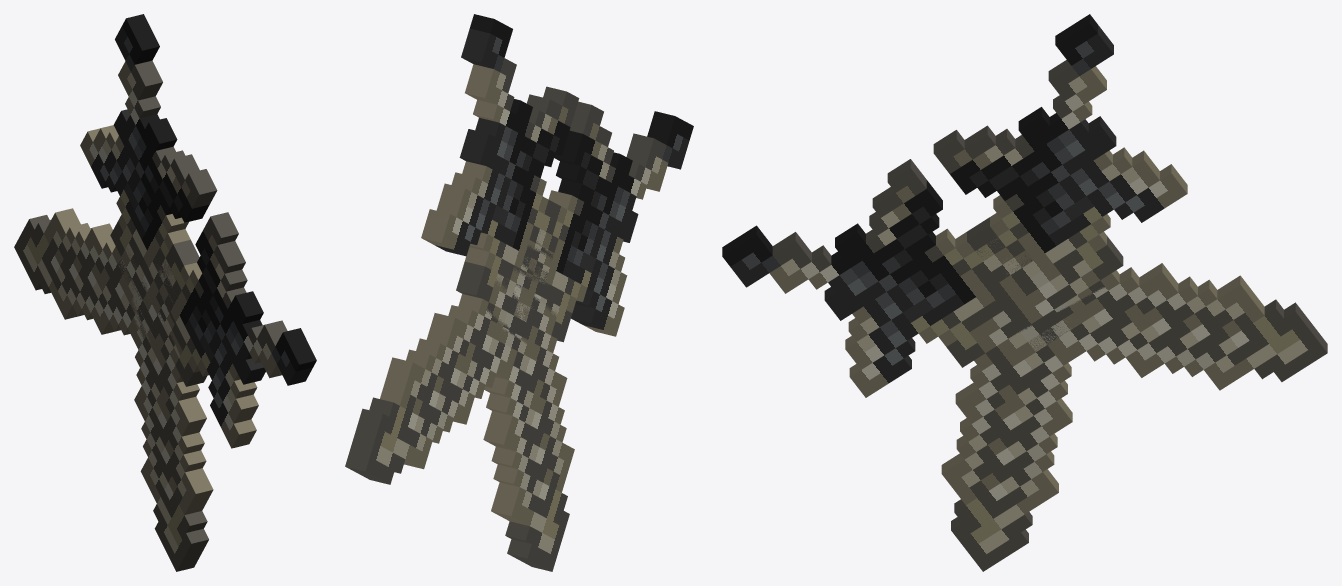
The model's file is dragon_sword_bone.glb.
3 renders of one model, left to right at view 1: azimuth 30°, elevation 25°; view 2: azimuth 150°, elevation 25°; view 3: azimuth 270°, elevation 25°, orthographic. The views are drawn at different scales.
Visible parts, largest first — view 1: off__Tool_L, main__Tool_R; view 2: off__Tool_L, main__Tool_R; view 3: main__Tool_R, off__Tool_L.
Part boxes in pixels (x1,y1,x2,y2): off__Tool_L: [80, 14, 217, 571]; main__Tool_R: [14, 208, 316, 448]; off__Tool_L: [421, 14, 579, 571]; main__Tool_R: [345, 101, 693, 484]; main__Tool_R: [722, 159, 1327, 397]; off__Tool_L: [933, 14, 1187, 571].
Size of the model in its own units: 0.0875 by 2.43 by 2.43.
1 material, 1 textured.
